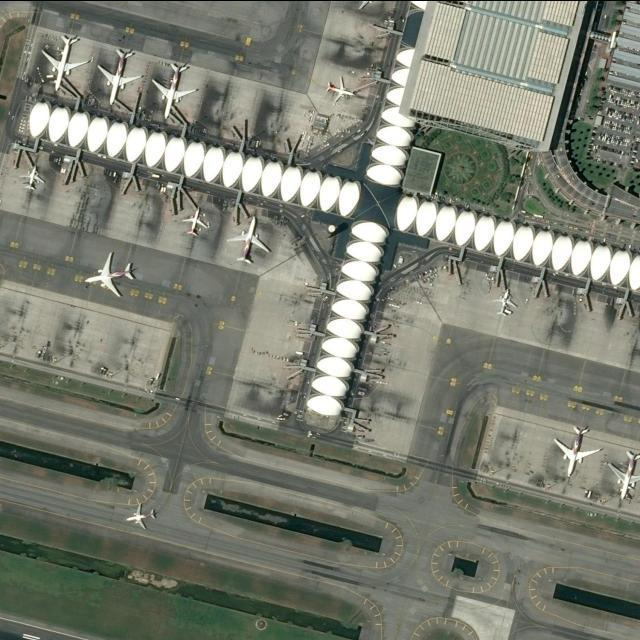Aircraft: (38, 27, 91, 89), (151, 56, 201, 118), (99, 43, 148, 103), (553, 422, 603, 478), (85, 247, 139, 297), (226, 210, 272, 265), (607, 445, 640, 501), (125, 497, 159, 531), (326, 73, 358, 104), (492, 286, 520, 316), (23, 157, 49, 189), (182, 206, 208, 236)
